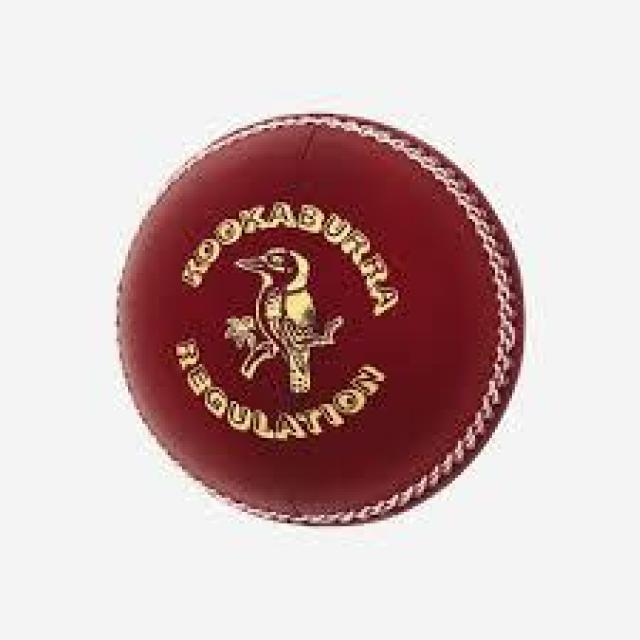ball: (120, 114, 529, 526)
